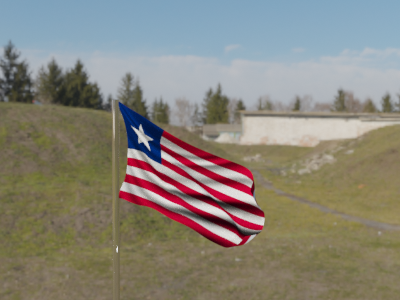Liberia flag: (116, 100, 265, 249)
